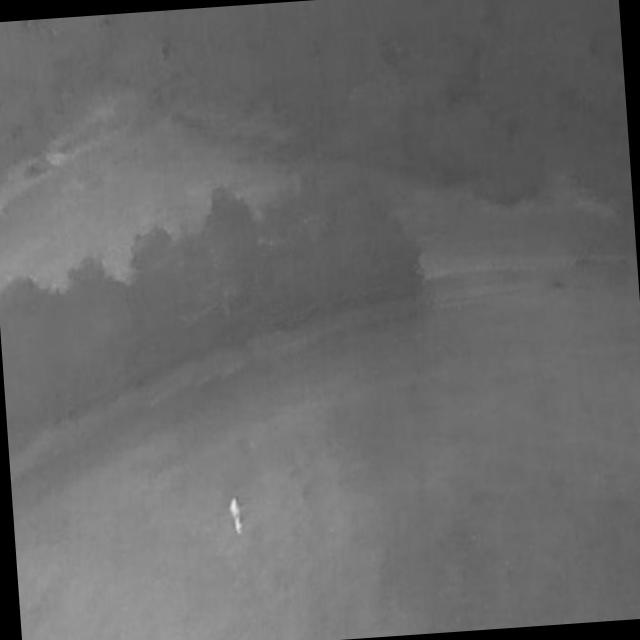person: (229, 498, 245, 537)
